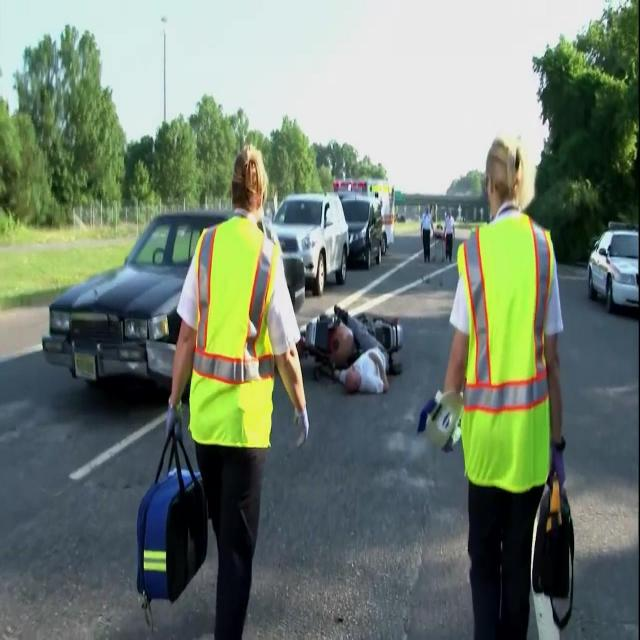Reflective-Jacket: (452, 210, 565, 500), (168, 212, 294, 460)
